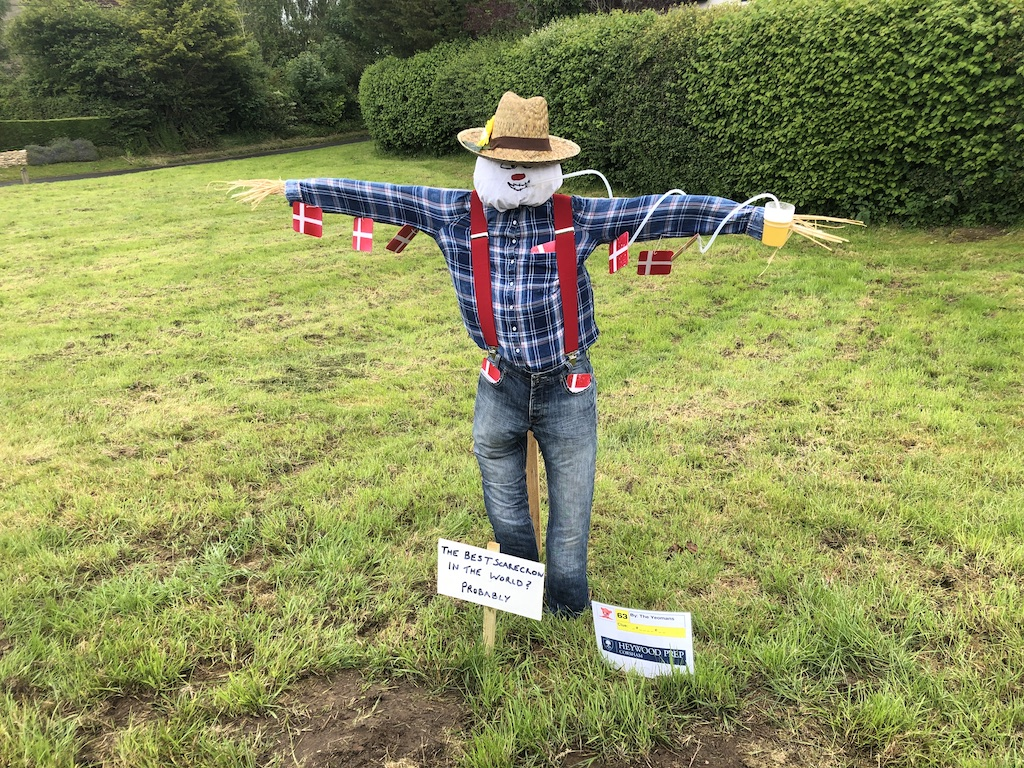person-like: (211, 78, 887, 630)
